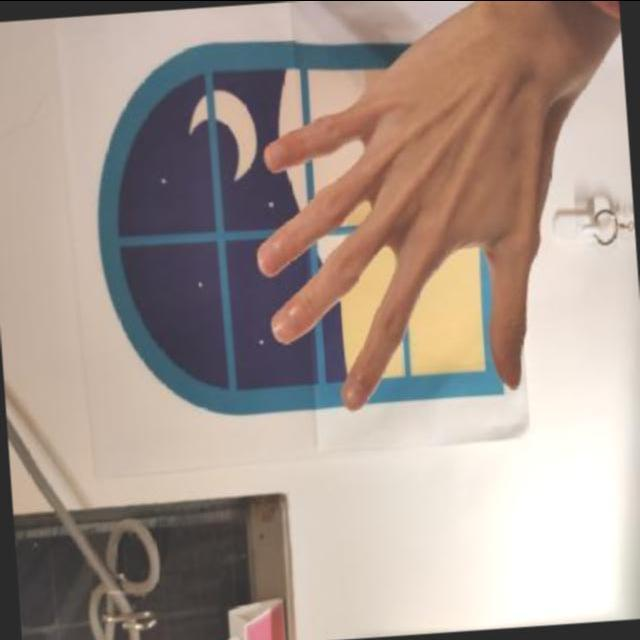hand: (221, 0, 592, 434)
